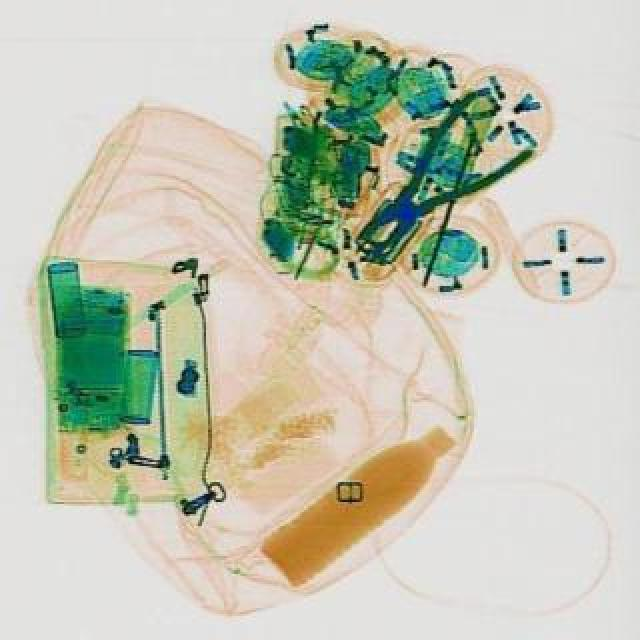wrench: (334, 86, 544, 278)
